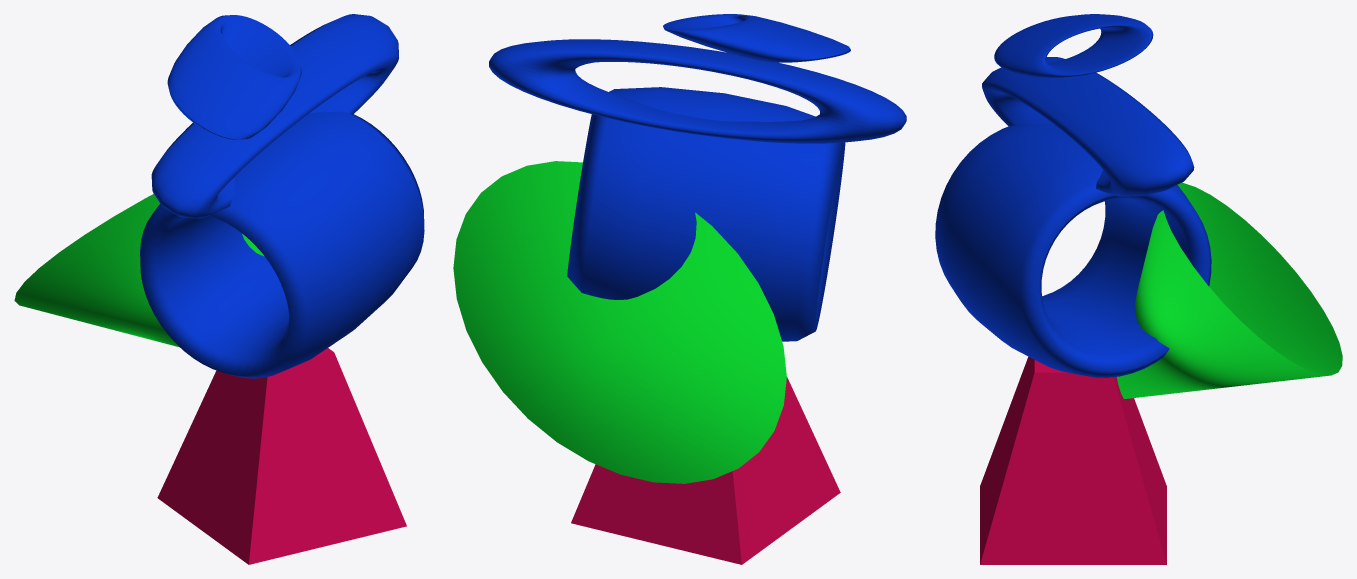
The model's file is simpleScene.dae.
3 renders of one model, left to right at view 1: azimuth 30°, elevation 25°; view 2: azimuth 150°, elevation 25°; view 3: azimuth 270°, elevation 25°, orthographic. The views are drawn at different scales.
Visible parts, largest first — view 1: Barrel, Frustum, BarrelChild, BarrelChild2, Speaker; view 2: Speaker, Barrel, Frustum, BarrelChild, BarrelChild2; view 3: Barrel, Frustum, Speaker, BarrelChild, BarrelChild2.
Part boxes in pixels (x1=…): Barrel: x1=140, y1=111, x2=424, y2=378; Frustum: x1=157, y1=348, x2=406, y2=564; BarrelChild: x1=151, y1=14, x2=398, y2=218; BarrelChild2: x1=167, y1=15, x2=301, y2=139; Speaker: x1=14, y1=194, x2=264, y2=347; Speaker: x1=453, y1=161, x2=786, y2=483; Barrel: x1=567, y1=87, x2=845, y2=341; Frustum: x1=571, y1=377, x2=840, y2=564; BarrelChild: x1=489, y1=39, x2=906, y2=143; BarrelChild2: x1=663, y1=14, x2=850, y2=62; Barrel: x1=935, y1=124, x2=1211, y2=377; Frustum: x1=980, y1=356, x2=1166, y2=564; Speaker: x1=1117, y1=182, x2=1342, y2=398; BarrelChild: x1=982, y1=57, x2=1194, y2=196; BarrelChild2: x1=994, y1=14, x2=1153, y2=77.
Size of the model in its own units: 4.01 by 4.36 by 5.72.
